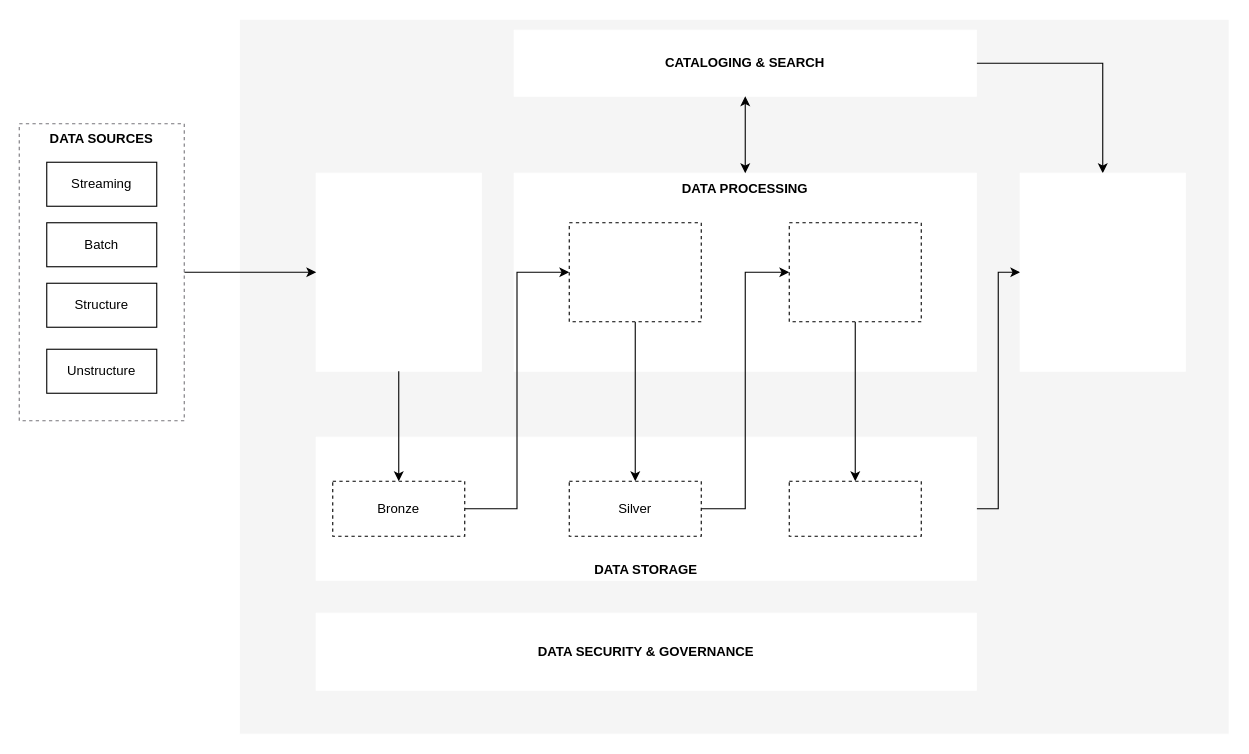
This 1249x754 diagram has some shape labels left out. The shapes that lost their labels are listed below. From the top down, each one's centre as x and y in pixels, then its label:
At (398,271): "DATA INGESTION".
At (634,272): "Validate, Clean, Standardize, Norm".
At (854,272): "Transform, Enrich".
At (1102,271): "CONSUMPTION".
At (854,508): "Gold".
